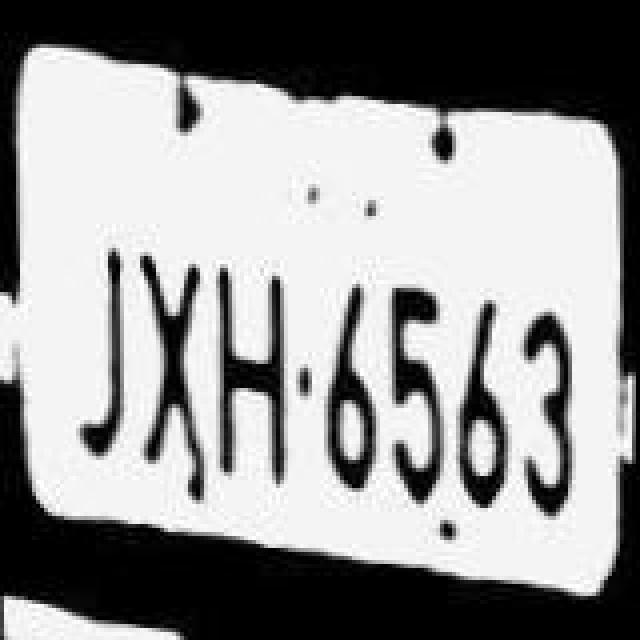3: (502, 276, 586, 540)
5: (376, 260, 452, 516)
6: (314, 260, 386, 520), (438, 276, 510, 512)
H: (212, 248, 296, 492)
J: (62, 220, 130, 468)
X: (126, 238, 210, 462)
